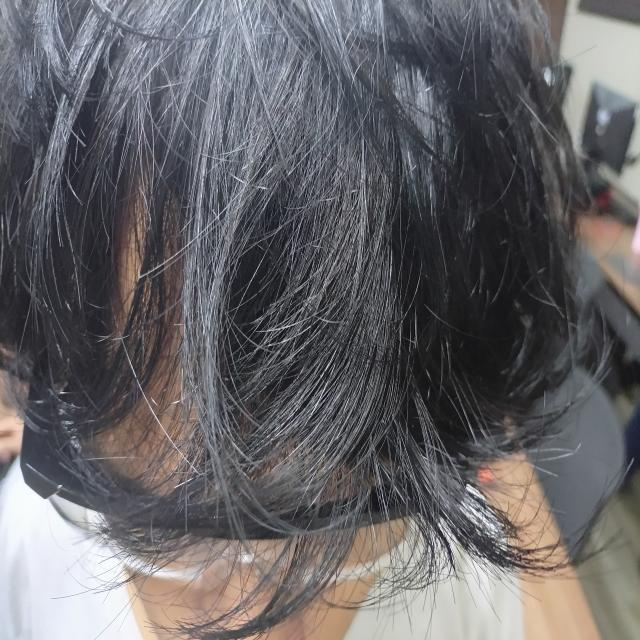oculos-epi: (12, 343, 483, 600)
